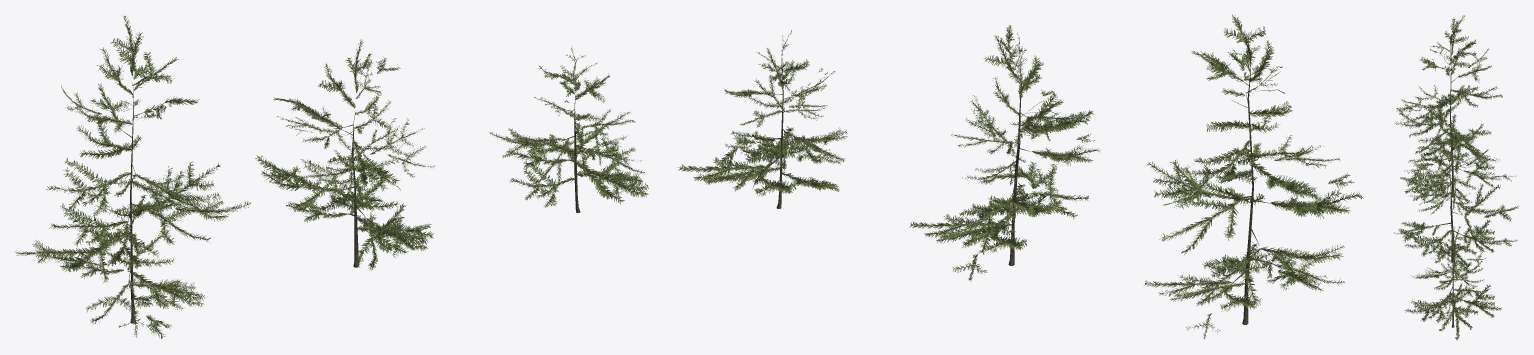
Rendered from fir_sapling_low.glb.
3 views of the same model, side by side, from view 1: azimuth 30°, elevation 25°; view 2: azimuth 150°, elevation 25°; view 3: azimuth 270°, elevation 25° (orthographic). The views are drawn at different scales.
Visible parts, largest first — view 1: fir_sapling_a, fir_sapling_b, fir_sapling_c; view 2: fir_sapling_a, fir_sapling_b, fir_sapling_c; view 3: fir_sapling_a, fir_sapling_b, fir_sapling_c.
Part boxes in pixels (box(x1,y1,x2,y2)): fir_sapling_a: box(15, 16, 250, 338); fir_sapling_b: box(255, 39, 434, 270); fir_sapling_c: box(489, 47, 648, 212); fir_sapling_a: box(1144, 14, 1363, 338); fir_sapling_b: box(909, 25, 1099, 281); fir_sapling_c: box(677, 30, 847, 208); fir_sapling_a: box(1395, 15, 1515, 211); fir_sapling_b: box(1394, 128, 1518, 275); fir_sapling_c: box(1404, 223, 1502, 340).
Size of the model in its own units: 2.74 by 1.3 by 0.8166.
2 materials, 2 textured.
